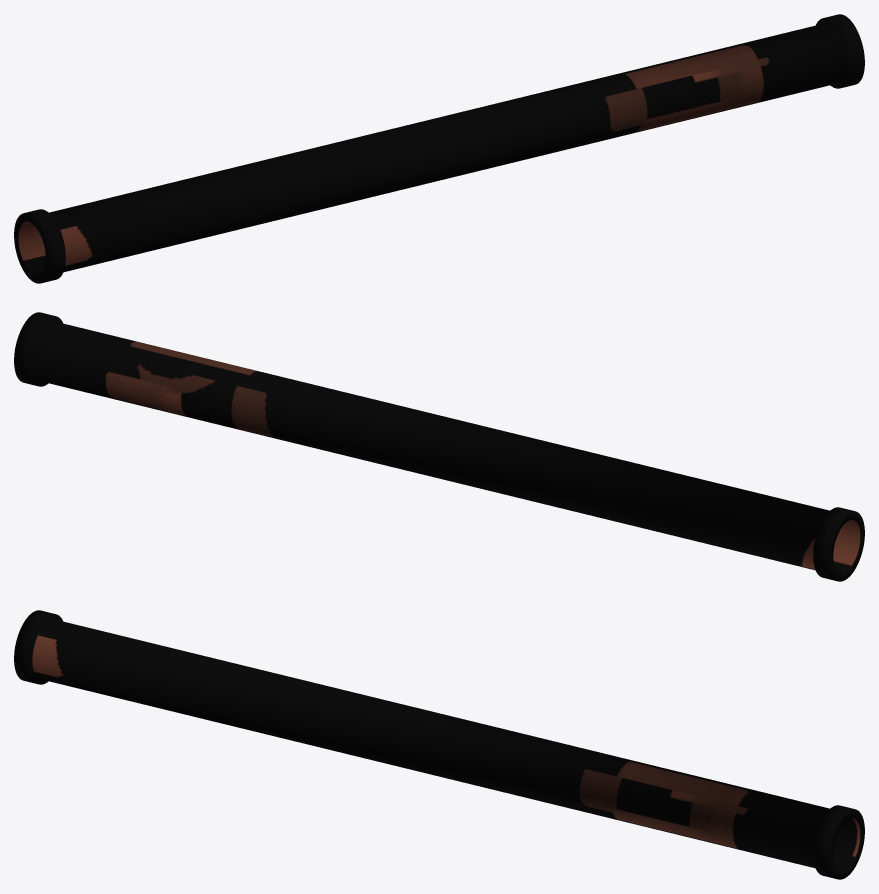
Rendered from Pipe thin 500mm WE.glb.
3 views of the same model, one above another, from view 1: azimuth 30°, elevation 25°; view 2: azimuth 150°, elevation 25°; view 3: azimuth 330°, elevation 25° (orthographic).
Parts seen in each view (by area): view 1: Pipe thin 500mm WE; view 2: Pipe thin 500mm WE; view 3: Pipe thin 500mm WE.
Part boxes in pixels (bbox=[...]): Pipe thin 500mm WE: bbox=[14, 14, 864, 283]; Pipe thin 500mm WE: bbox=[14, 312, 864, 581]; Pipe thin 500mm WE: bbox=[14, 610, 864, 879].
Size of the model in its own units: 36.99 by 2.85 by 2.85.
Materials: 1 (1 with a texture image).
